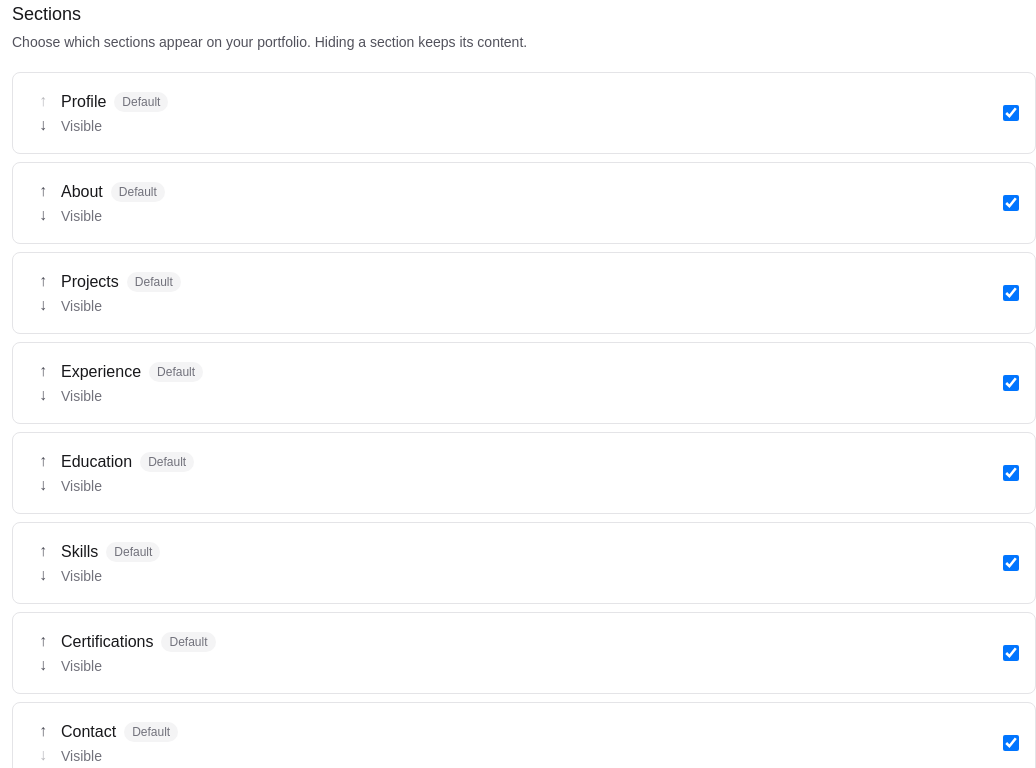
Scenario: SectionsEditor › persists a visibility change with the current revision
Expected: the text "Projects" is shown, [61,270,119,294]
Click the checkbox named "Show Projects".
click(1011, 293)  # box [1003,285,1019,301]
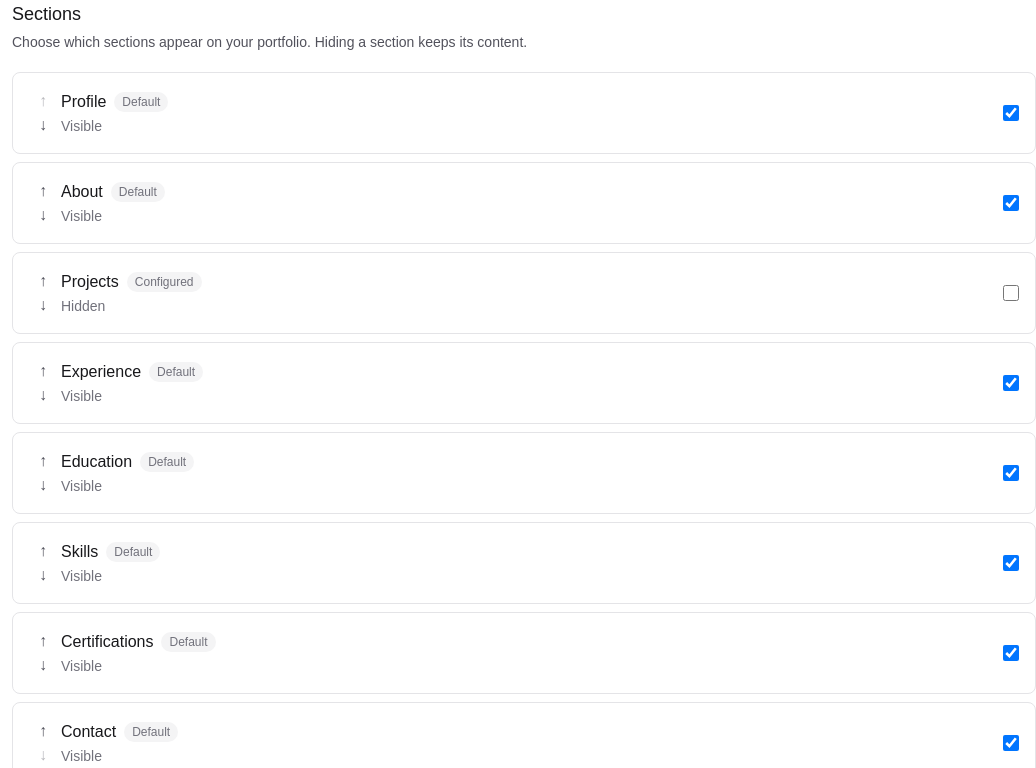
Now the text "Hidden" is shown, box [61,298,105,314]
Now the text "Configured" is shown, box [127,272,202,292]
